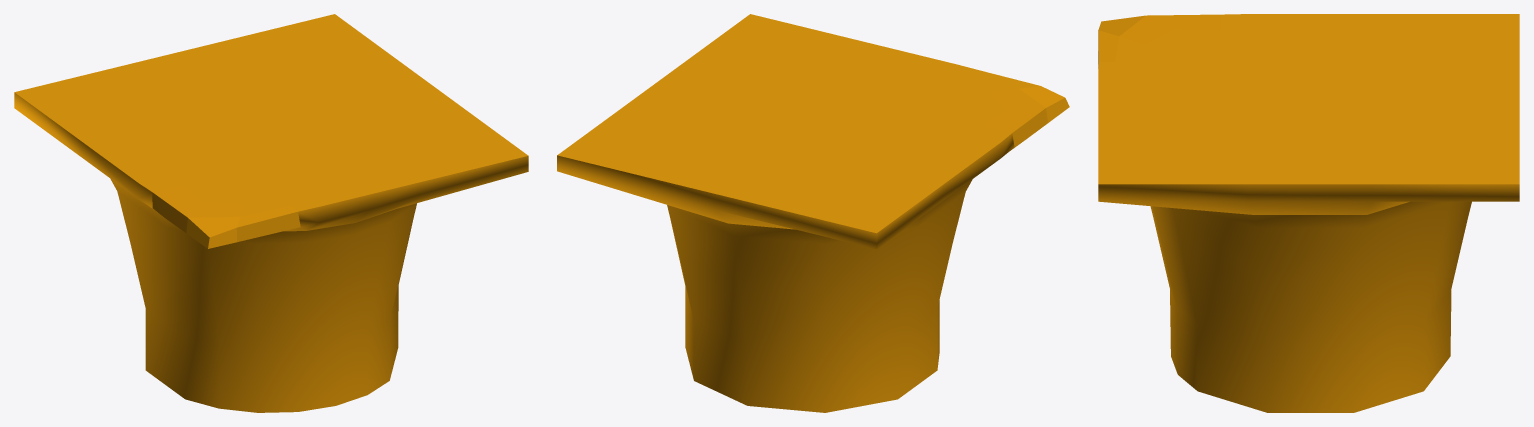
Rendered from Pillar_01C_Lod2.fbx.
3 renders of one model, left to right at view 1: azimuth 30°, elevation 25°; view 2: azimuth 150°, elevation 25°; view 3: azimuth 270°, elevation 25°, orthographic. The views are drawn at different scales.
Parts seen in each view (by area): view 1: Pillar_01C_Lod2; view 2: Pillar_01C_Lod2; view 3: Pillar_01C_Lod2.
Part boxes in pixels (x1,y1,x2,y2): Pillar_01C_Lod2: (14,14,528,412); Pillar_01C_Lod2: (557,14,1069,412); Pillar_01C_Lod2: (1098,14,1519,412).
Size of the model in its own units: 354 by 249 by 370.
